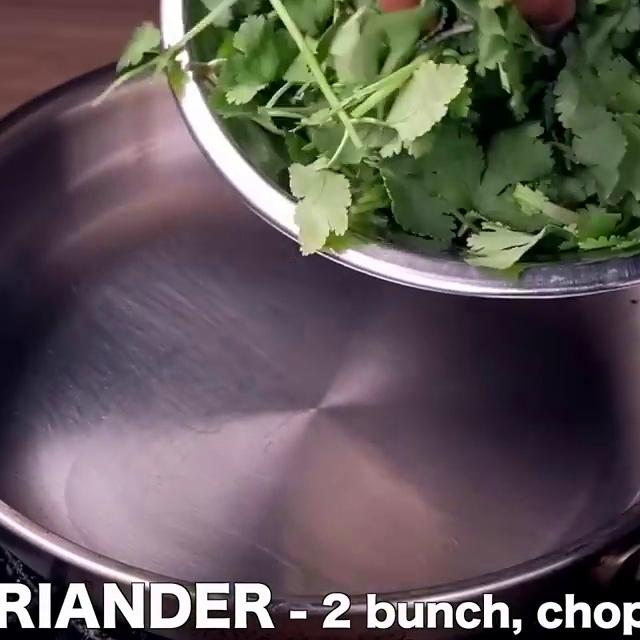cilantro: (245, 30, 640, 248)
